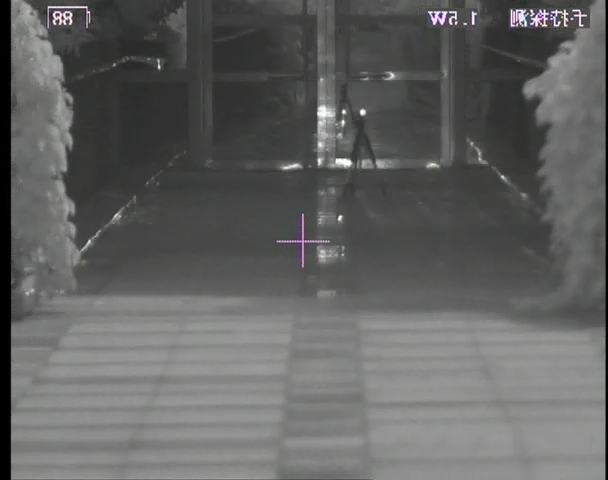my: (358, 108, 367, 117)
